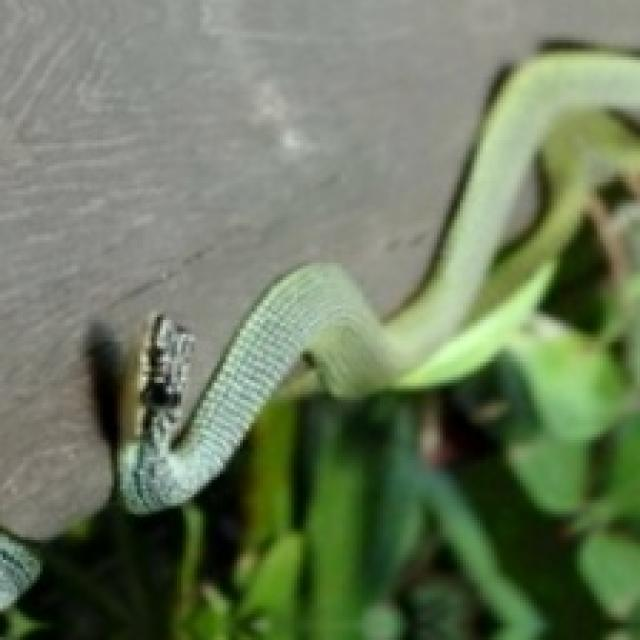paradise tree snake: (117, 49, 637, 511)
